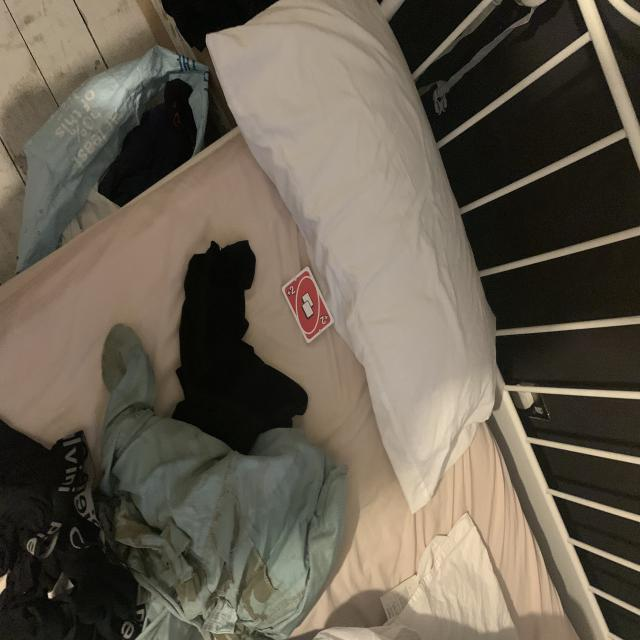lred-20: (284, 284, 298, 299)
